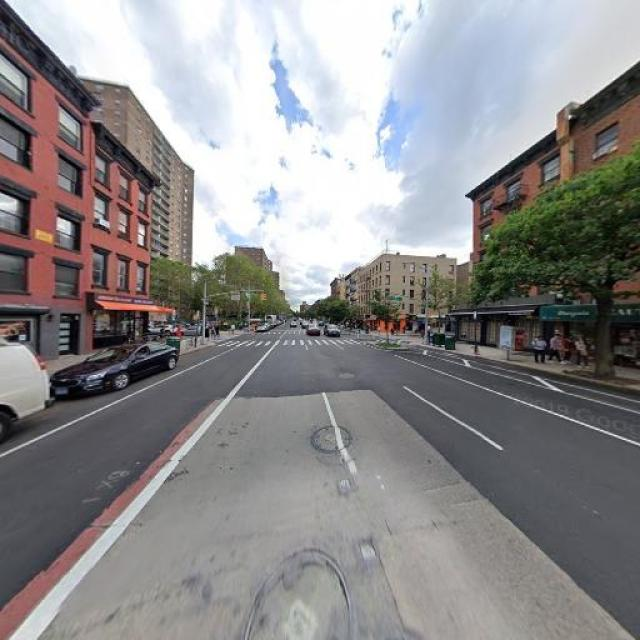Building: (1, 1, 87, 367), (567, 75, 640, 367), (475, 133, 560, 357), (93, 115, 147, 352)
